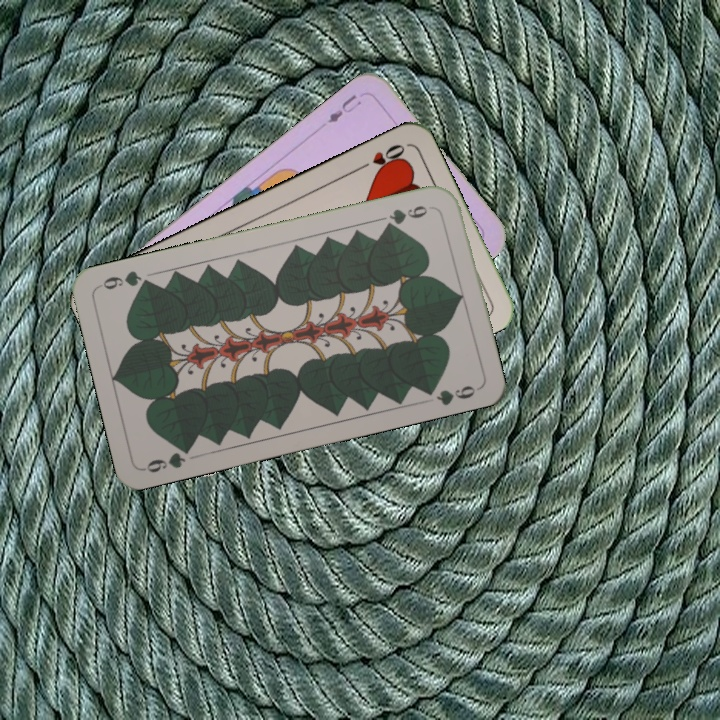EU: (323, 90, 365, 126)
G9: (140, 441, 196, 476), (380, 201, 437, 231)
HO: (354, 140, 408, 174)
